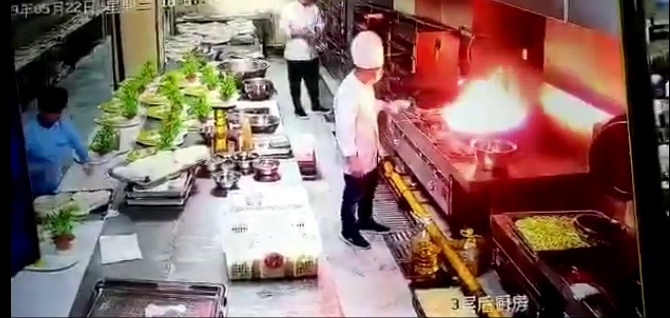fire: (443, 66, 526, 135)
